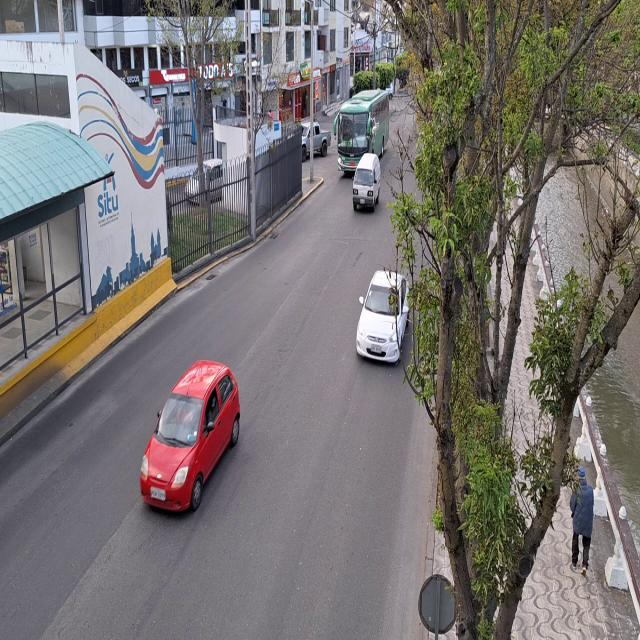BUS: (336, 94, 388, 158)
SED: (141, 359, 235, 514), (355, 269, 411, 366)
